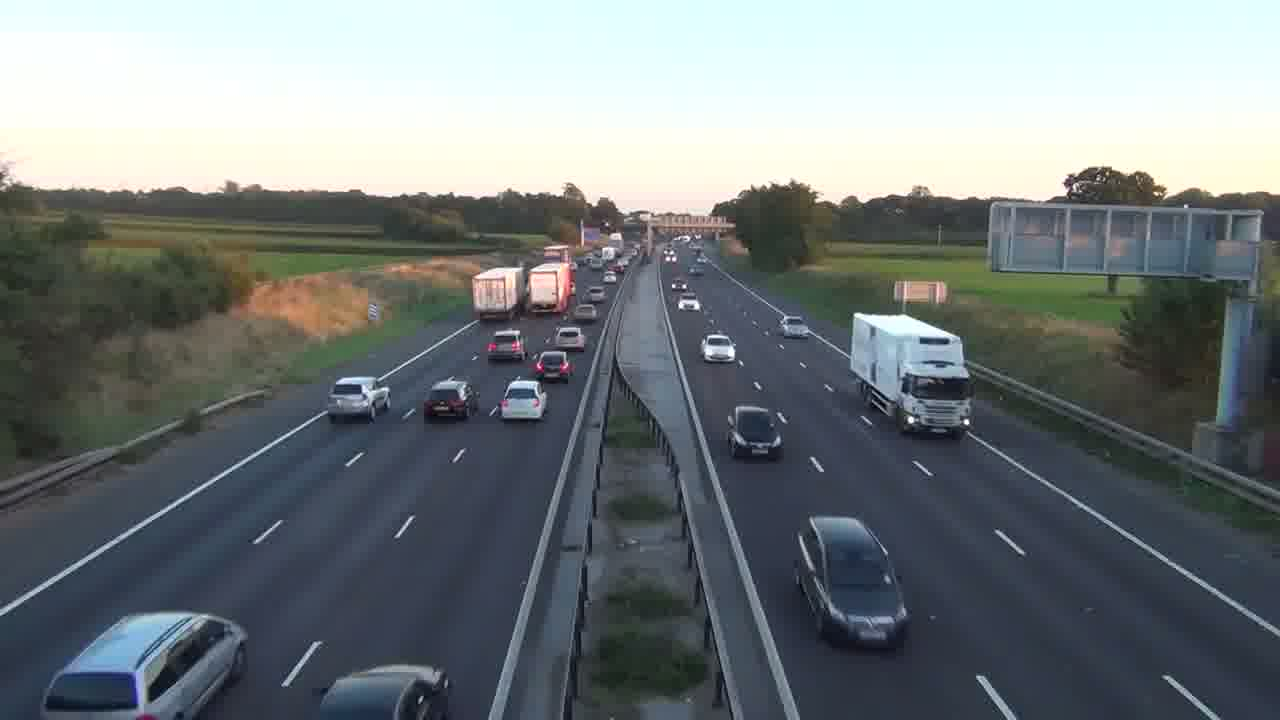car: (41, 609, 249, 717), (793, 514, 911, 650), (318, 663, 451, 718), (423, 378, 475, 422), (501, 378, 549, 421), (532, 350, 574, 384), (700, 333, 737, 363), (553, 325, 586, 354), (677, 296, 701, 311)
truck: (849, 312, 975, 437), (527, 263, 576, 315)
